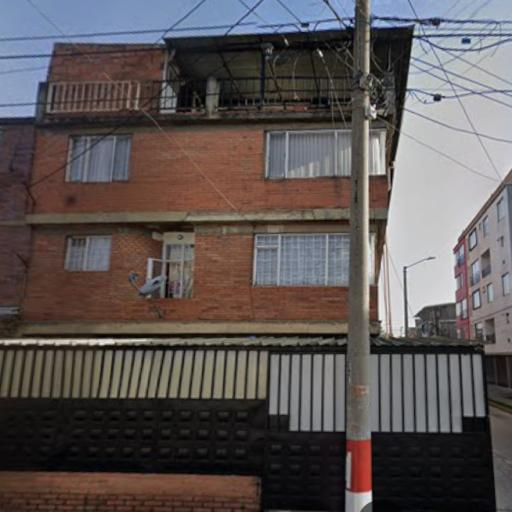poste: (341, 0, 379, 510)
